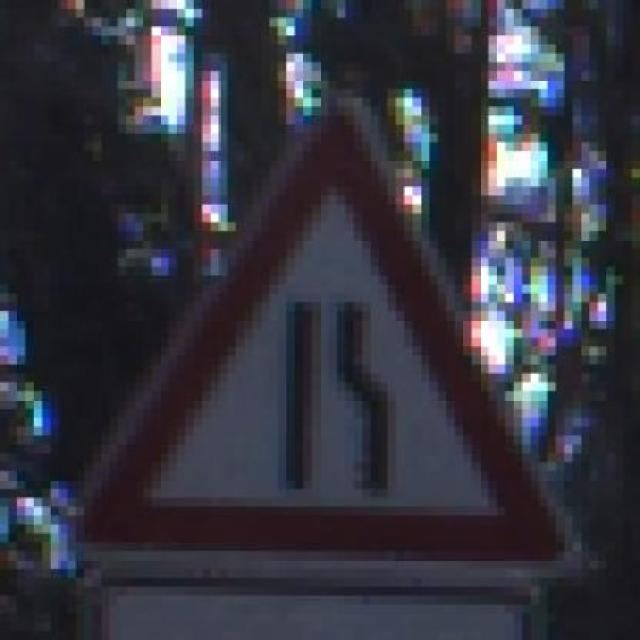-Road narrows on right: (59, 71, 582, 587)
